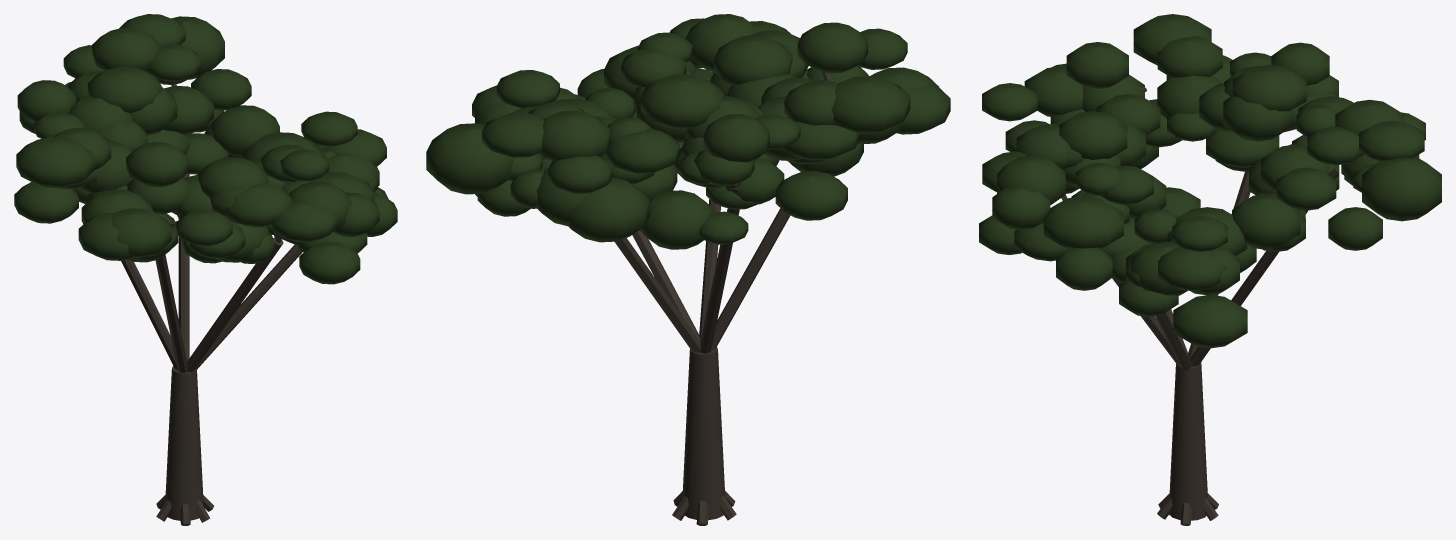
Rendered from KIT_TREE_BIG.glb.
The picture shows the model from 3 angles, left to right: view 1: azimuth 30°, elevation 25°; view 2: azimuth 150°, elevation 25°; view 3: azimuth 270°, elevation 25°; orthographic projection. The views are drawn at different scales.
Visible parts, largest first — view 1: KIT_TREE_BIG; view 2: KIT_TREE_BIG; view 3: KIT_TREE_BIG.
Boxes of the visible parts, bbox=[...] form: KIT_TREE_BIG: bbox=[14, 14, 397, 525]; KIT_TREE_BIG: bbox=[426, 14, 950, 525]; KIT_TREE_BIG: bbox=[979, 14, 1441, 525].
Bounding box in the file's own units: 11.28 × 12.18 × 11.79.
